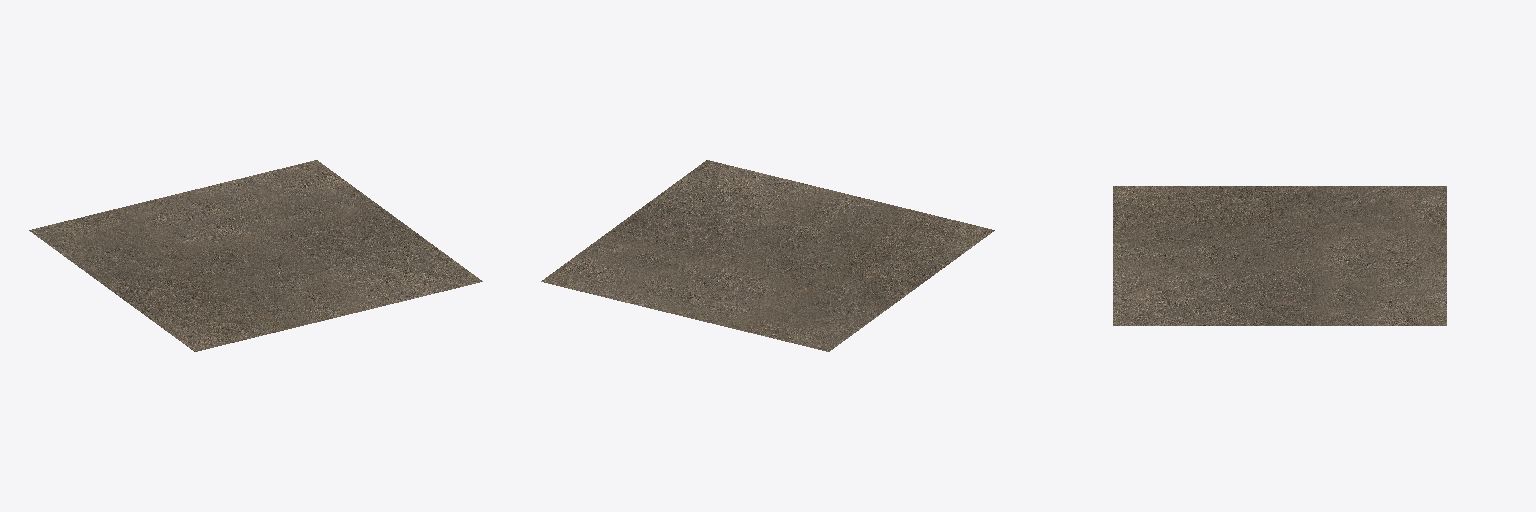
The picture shows the model from 3 angles: view 1: azimuth 30°, elevation 25°; view 2: azimuth 150°, elevation 25°; view 3: azimuth 270°, elevation 25°; orthographic projection.
Visible parts, largest first — view 1: rock_01_diff_1k; view 2: rock_01_diff_1k; view 3: rock_01_diff_1k.
Part boxes in pixels (x1,y1,x2,y2): rock_01_diff_1k: (29, 160, 482, 351); rock_01_diff_1k: (541, 160, 994, 351); rock_01_diff_1k: (1113, 186, 1446, 325).
Size of the model in its own units: 1 by 0 by 1.
1 materials, 1 textured.